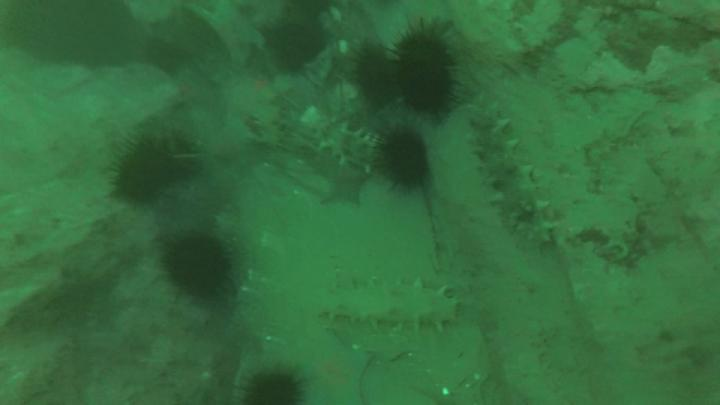echinus: (395, 32, 456, 112), (164, 241, 228, 300), (111, 147, 171, 203), (354, 45, 400, 104), (383, 131, 430, 188), (269, 25, 320, 66), (246, 374, 296, 405)
holothurian: (465, 102, 557, 245), (316, 280, 458, 330), (313, 118, 380, 173)
starfish: (299, 337, 369, 405)
